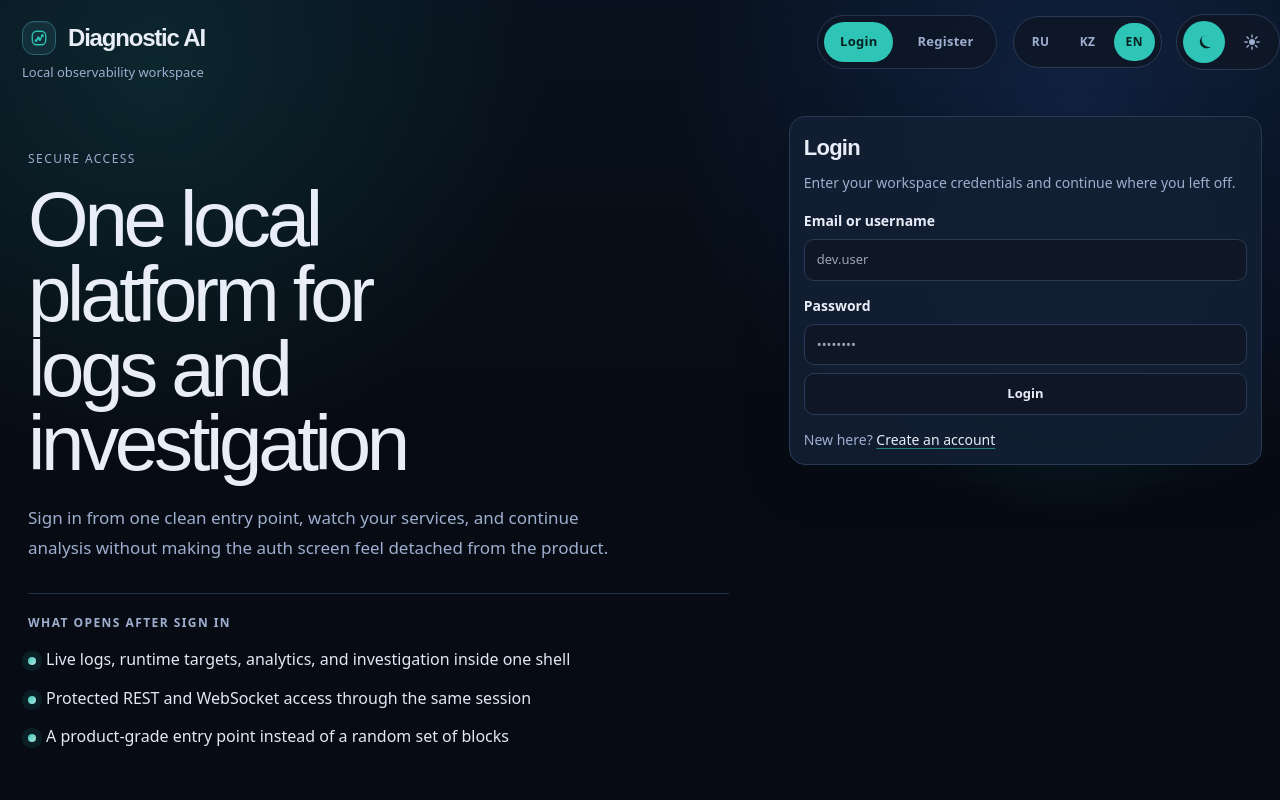
LoginPage › shows validation before submitting empty login form
The image size is (1280, 800).
Click the button "Login" at x=1025, y=394, box [804,373,1247,415]
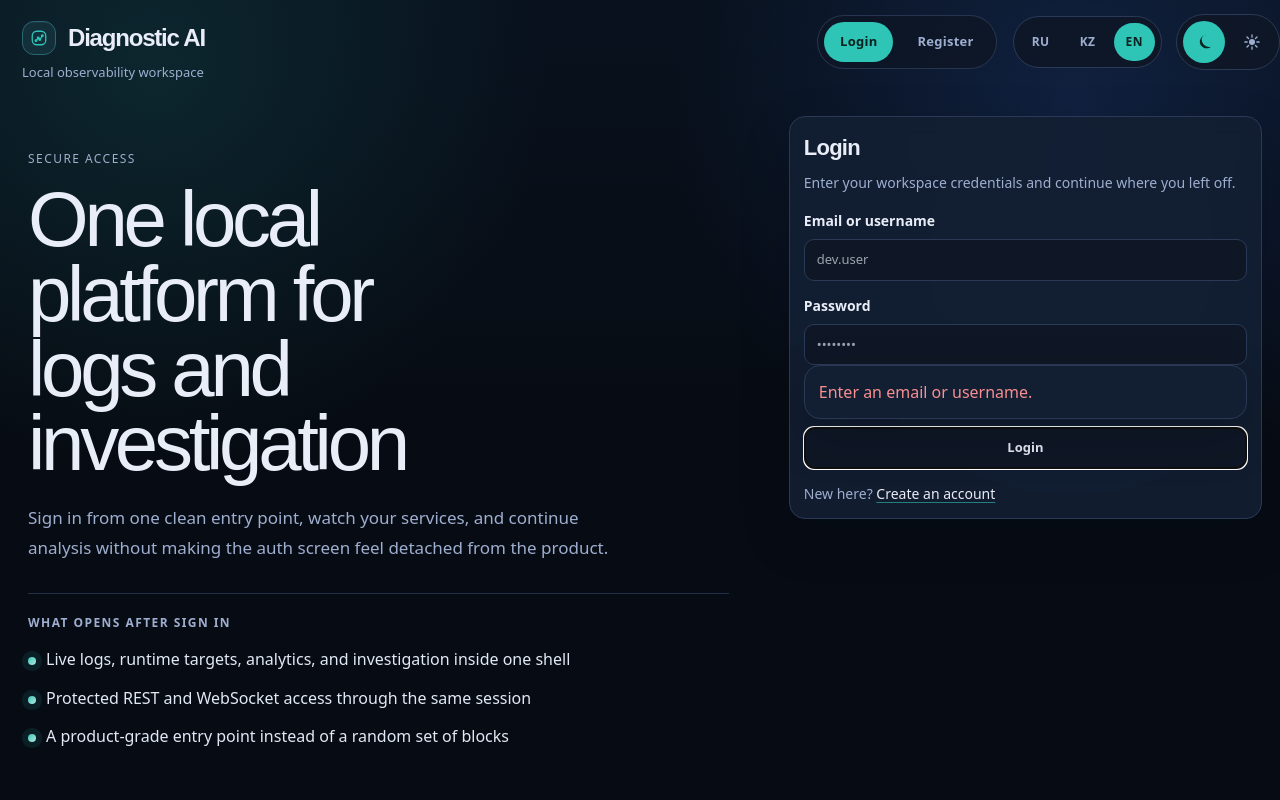
Expected: the message shows "Enter an email or username", [819,381,1032,403]
